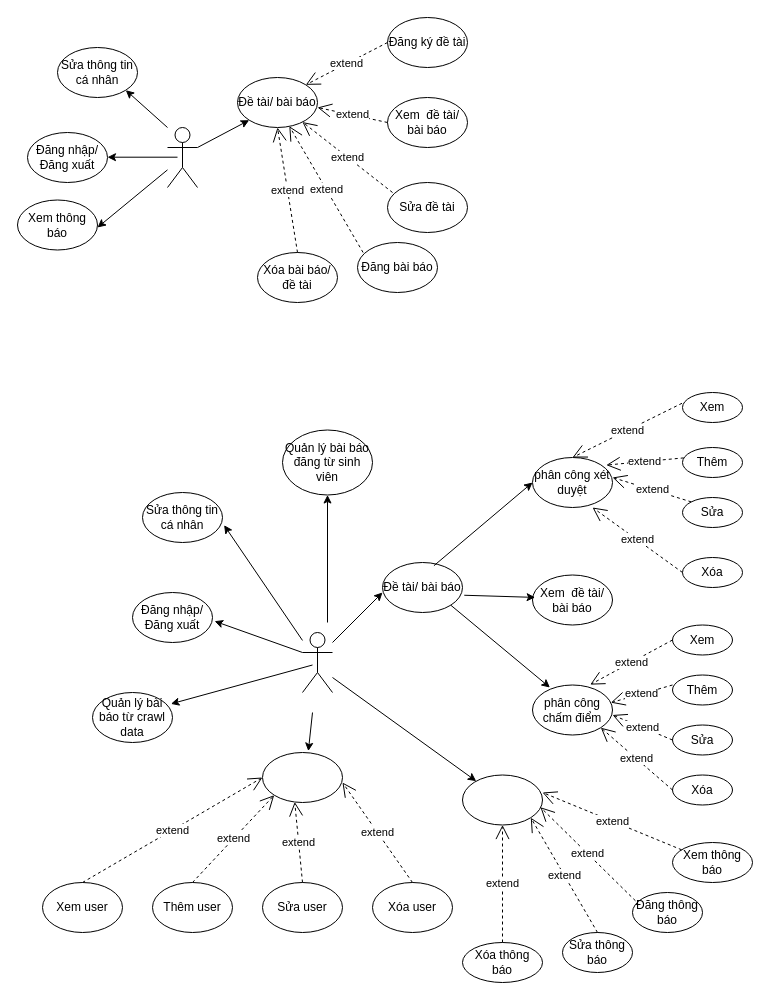
The diagram is 770 pixels wide and 1000 high, and some of its shapes have lost their labels. Each missing label, with the centre of its shape:
admin: (x=317, y=662)
Quản lý user: (x=302, y=777)
Sinh viên: (x=182, y=157)
Thông báo: (x=502, y=799)
